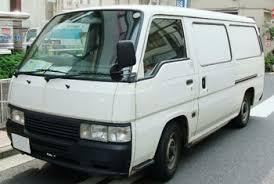van: (4, 4, 265, 184)
